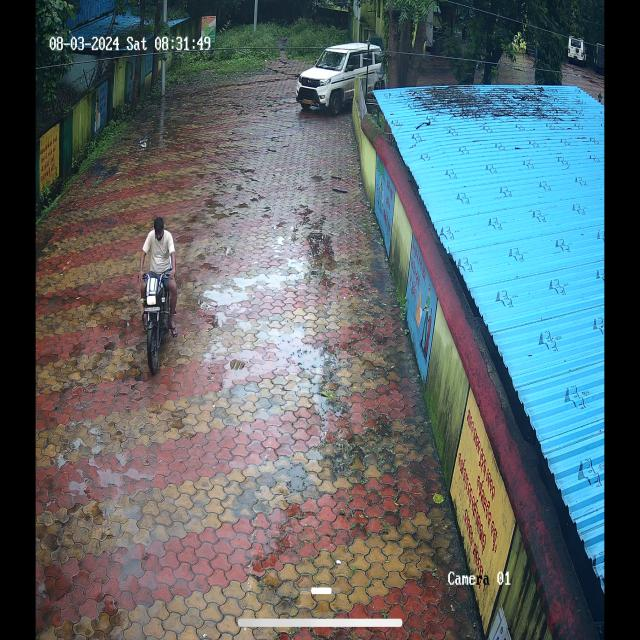light_vehicle: (299, 46, 355, 112)
